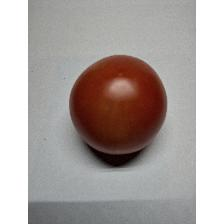Tomate: (68, 53, 170, 157)
